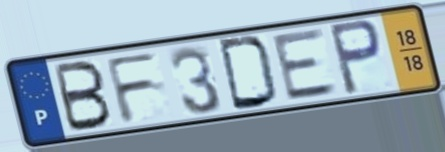3: (168, 43, 223, 116)
B: (51, 58, 115, 134)
D: (215, 34, 281, 113)
E: (269, 25, 342, 104)
F: (102, 49, 162, 127)
P: (325, 17, 385, 97)
